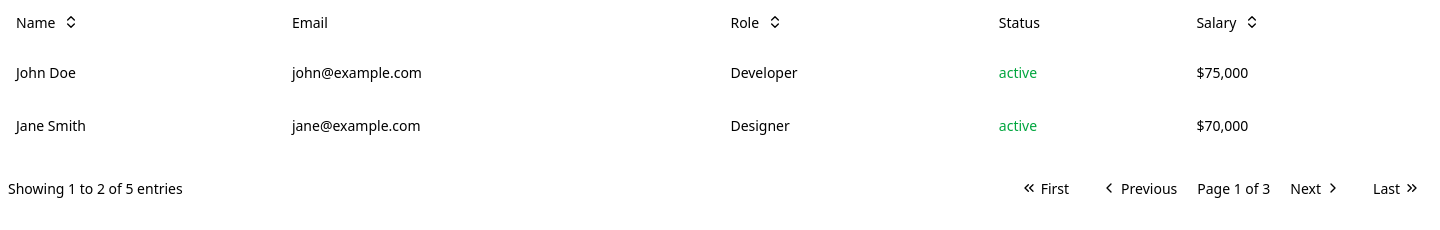
Test: DataTable Component › Pagination › navigation buttons work correctly
Expected: the button "Previous" is disabled, [1089,168,1189,208]
Expected: the button "First" is disabled, [1009,168,1081,208]
Note: Go to page 2
Click the button "Next".
click(1316, 188)  # box [1278,168,1353,208]
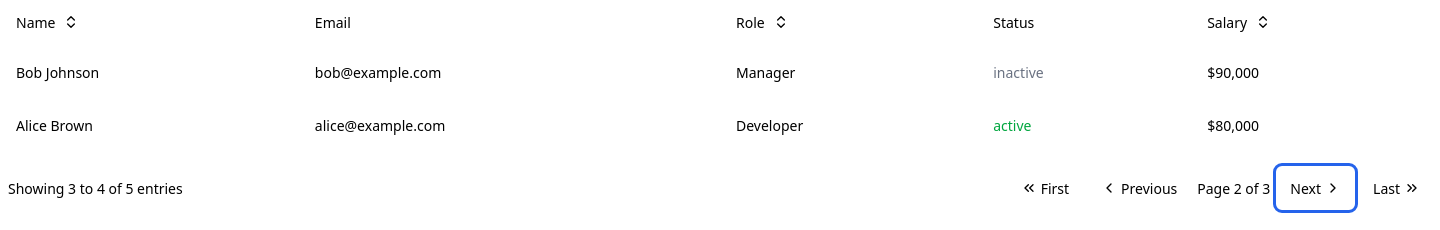
Result: the text "Page 2 of 3" is shown at [1197,178,1270,198]
Result: the text "Bob Johnson" is shown at [0,46,299,99]
Result: the text "John Doe" is gone
Note: Go to last page
Click the button "Last".
click(1396, 188)  # box [1361,168,1432,208]
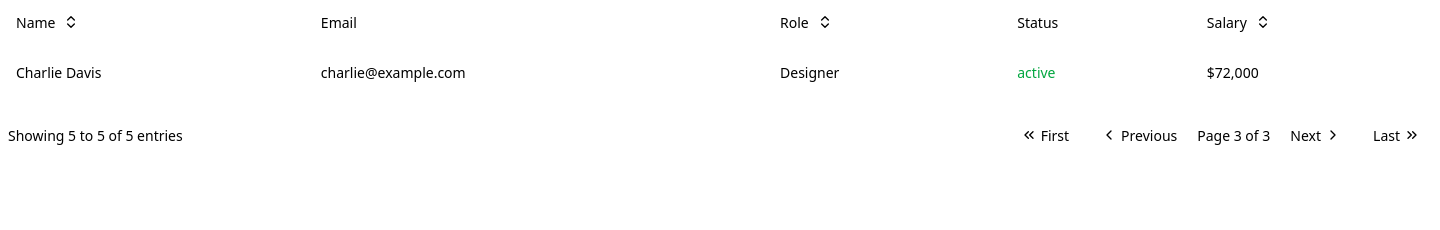
Result: the text "Page 3 of 3" is shown at [1197,124,1270,146]
Result: the text "Charlie Davis" is shown at [0,46,305,99]
Result: the button "Next" is disabled at [1278,115,1353,155]
Note: Go back to first page
Click the button "First".
click(1045, 135)  # box [1009,115,1081,155]
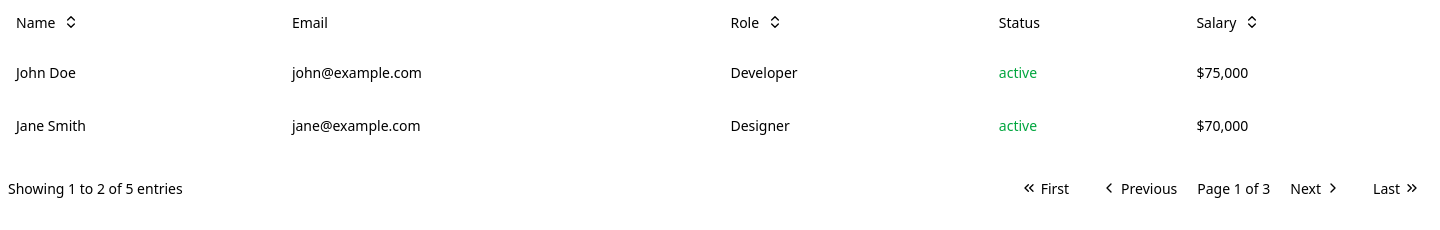
Result: the text "Page 1 of 3" is shown at [1197,178,1270,198]
Result: the text "John Doe" is shown at [0,46,276,99]
